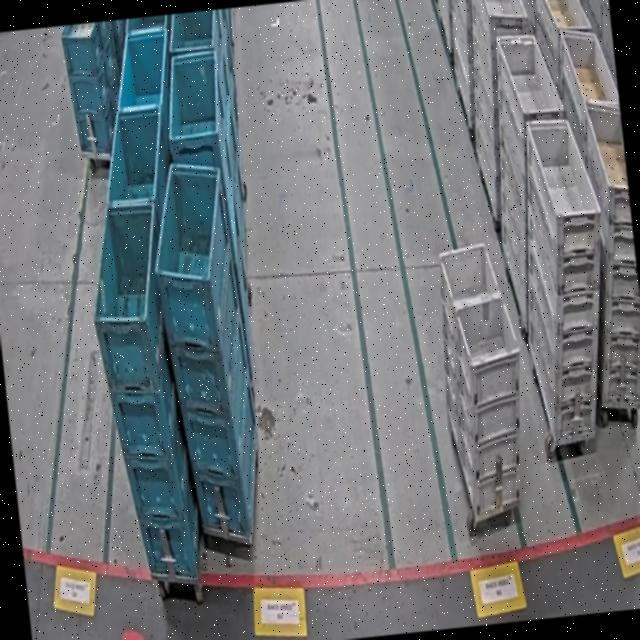6G: (503, 112, 622, 444)
8G: (434, 240, 536, 522)
B4: (142, 155, 268, 546), (80, 196, 206, 580)
B8: (61, 20, 130, 160)
